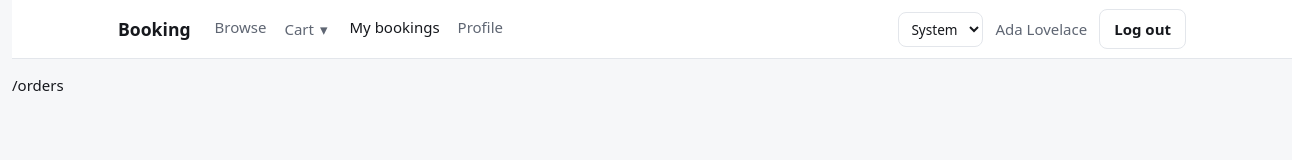
Test case: Nav › logs out, clears the session and goes home
The width and height of the screenshot is (1292, 160).
Click the button "Log out". click: (1143, 29)
box: [1099, 9, 1186, 49]
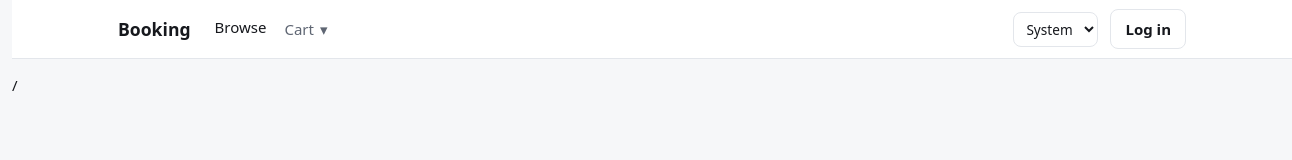
expect the text with test id "location" reads "/": met, box [12, 75, 18, 95]
expect the link "Log in" is shown: met, box [1110, 9, 1186, 49]
expect the link "My bookings" is gone: met
